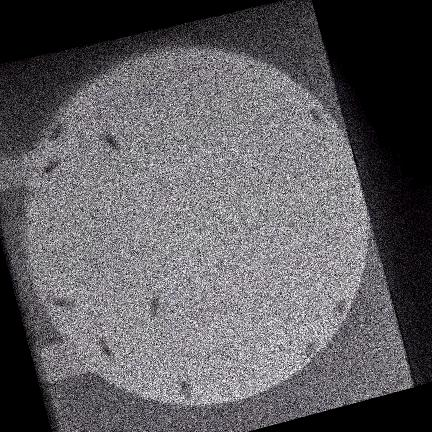fly: (101, 130, 121, 151), (99, 337, 115, 361), (48, 122, 66, 140), (49, 296, 74, 308), (150, 290, 161, 317), (178, 378, 192, 399), (301, 340, 319, 356), (44, 157, 61, 172), (333, 298, 347, 315), (309, 108, 323, 124)
